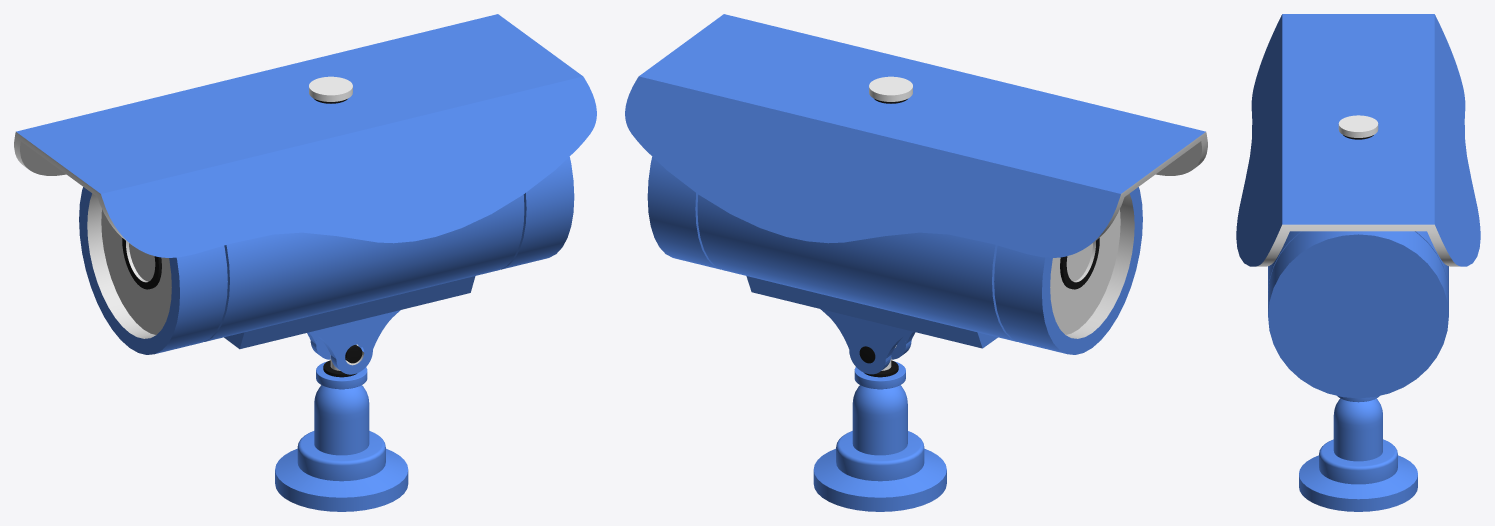
The picture shows the model from 3 angles, left to right: view 1: azimuth 30°, elevation 25°; view 2: azimuth 150°, elevation 25°; view 3: azimuth 270°, elevation 25°; orthographic projection. The views are drawn at different scales.
Parts seen in each view (by area): view 1: 立方体_1, 机身, 圆柱_2_3, 圆柱_8, 机身后, 圆柱, 挤压, 胶囊_1, 圆柱_7, 挤压_1, 圆柱_2_4, 圆柱_2 (+3 smaller); view 2: 立方体_1, 机身, 圆柱_2_3, 圆柱_8, 机身后, 圆柱, 挤压, 胶囊_1, 圆柱_7, 挤压_2_2, 圆柱_2_4, 圆柱_2 (+3 smaller); view 3: 立方体_1, 机身后, 圆柱_8, 胶囊_1, 圆柱_7, 挤压_4, 圆柱_2, 机身.
Part boxes in pixels (left/top/right/bottom): 立方体_1: left=16, top=14, right=596, bottom=257; 机身: left=204, top=194, right=524, bottom=341; 圆柱_2_3: left=79, top=187, right=227, bottom=354; 圆柱_8: left=275, top=448, right=408, bottom=511; 机身后: left=500, top=157, right=574, bottom=269; 圆柱: left=101, top=209, right=171, bottom=334; 挤压: left=240, top=276, right=475, bottom=348; 胶囊_1: left=314, top=385, right=369, bottom=455; 圆柱_7: left=297, top=431, right=385, bottom=481; 挤压_1: left=309, top=310, right=400, bottom=374; 圆柱_2_4: left=87, top=193, right=155, bottom=338; 圆柱_2: left=309, top=76, right=352, bottom=101; 立方体_1: left=625, top=14, right=1205, bottom=257; 机身: left=697, top=194, right=1017, bottom=341; 圆柱_2_3: left=994, top=187, right=1142, bottom=354; 圆柱_8: left=813, top=448, right=946, bottom=511; 机身后: left=647, top=157, right=721, bottom=269; 圆柱: left=1050, top=209, right=1120, bottom=334; 挤压: left=746, top=276, right=982, bottom=348; 胶囊_1: left=852, top=385, right=907, bottom=455; 圆柱_7: left=836, top=431, right=924, bottom=481; 挤压_2_2: left=820, top=309, right=914, bottom=374; 圆柱_2_4: left=1066, top=193, right=1134, bottom=338; 圆柱_2: left=869, top=76, right=912, bottom=101; 立方体_1: left=1236, top=14, right=1480, bottom=266; 机身后: left=1268, top=231, right=1448, bottom=398; 圆柱_8: left=1299, top=455, right=1417, bottom=511; 胶囊_1: left=1333, top=398, right=1382, bottom=461; 圆柱_7: left=1319, top=439, right=1397, bottom=484; 挤压_4: left=1256, top=224, right=1460, bottom=266; 圆柱_2: left=1338, top=115, right=1378, bottom=137; 机身: left=1268, top=231, right=1448, bottom=293.
Size of the model in its own units: 30.69 by 24.04 by 14.86.
